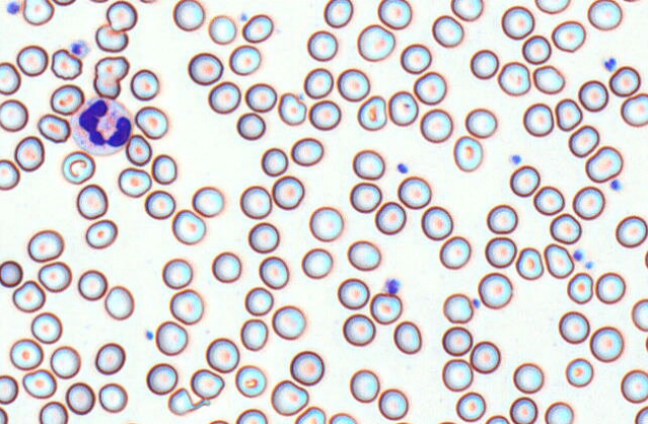GRAN: (70, 97, 135, 156)
PLT: (70, 40, 88, 59), (383, 278, 402, 296), (3, 0, 22, 16), (608, 177, 623, 192), (604, 57, 619, 72), (396, 161, 410, 174), (508, 153, 522, 165), (572, 248, 584, 261), (470, 297, 483, 308), (144, 330, 155, 342), (585, 260, 595, 269)
RBC: (585, 145, 623, 183), (357, 23, 395, 61), (270, 379, 308, 415), (589, 325, 624, 362), (477, 272, 512, 309), (289, 350, 324, 385), (205, 337, 239, 373), (169, 288, 203, 324), (27, 229, 64, 262), (271, 304, 305, 339), (171, 209, 205, 244), (309, 206, 343, 241), (187, 52, 223, 85), (134, 105, 168, 139), (207, 80, 241, 114), (61, 150, 95, 184), (397, 175, 431, 209), (155, 320, 188, 355), (497, 61, 530, 96), (420, 205, 453, 240), (76, 183, 108, 219), (271, 175, 304, 209), (501, 5, 534, 39), (239, 185, 272, 219), (572, 185, 605, 219), (336, 68, 370, 101), (49, 83, 84, 115), (420, 108, 452, 143), (12, 279, 45, 312), (342, 313, 375, 346), (413, 71, 446, 104), (9, 338, 43, 370), (558, 310, 590, 344), (439, 235, 471, 269), (522, 102, 554, 136), (551, 20, 585, 52), (117, 166, 152, 197), (37, 261, 72, 292), (543, 243, 574, 278), (14, 135, 44, 171), (453, 135, 483, 171), (388, 90, 418, 126), (441, 358, 473, 391), (369, 292, 402, 324), (615, 215, 647, 248), (374, 201, 406, 234), (431, 14, 463, 47), (608, 65, 641, 97), (190, 368, 224, 399), (258, 255, 289, 289), (104, 285, 134, 320), (357, 95, 387, 130), (587, 0, 622, 30), (50, 48, 82, 80), (30, 311, 62, 343), (16, 44, 48, 76), (337, 277, 369, 309), (192, 185, 224, 217), (549, 212, 581, 244), (484, 236, 516, 268), (235, 364, 266, 397), (469, 340, 500, 373), (509, 164, 540, 197), (228, 44, 261, 75), (347, 239, 380, 270), (568, 124, 599, 157), (308, 99, 341, 130), (22, 368, 56, 398), (65, 381, 95, 415), (349, 368, 379, 402), (377, 0, 412, 29), (146, 362, 177, 394), (105, 0, 137, 31), (172, 0, 204, 31), (161, 257, 192, 289), (94, 342, 125, 374), (248, 221, 279, 253), (349, 181, 381, 212), (301, 247, 332, 279), (85, 218, 117, 249), (465, 107, 497, 138), (37, 113, 70, 143), (50, 345, 80, 378), (532, 64, 565, 94), (244, 82, 277, 112), (290, 136, 323, 166), (595, 271, 625, 304), (578, 79, 608, 112), (512, 362, 543, 393), (441, 325, 472, 356), (442, 292, 473, 323), (400, 43, 431, 74), (486, 203, 517, 234), (306, 30, 337, 61), (378, 388, 408, 420), (352, 149, 384, 179), (241, 13, 273, 43), (0, 98, 28, 132), (515, 246, 543, 280), (393, 320, 421, 354), (620, 92, 647, 127), (144, 189, 175, 219), (211, 251, 241, 282), (77, 269, 107, 300), (469, 48, 499, 79), (533, 185, 564, 215), (303, 67, 333, 98), (130, 68, 159, 100), (95, 24, 128, 52), (554, 98, 582, 131), (620, 369, 647, 403), (455, 391, 485, 421), (521, 34, 551, 64), (98, 382, 127, 413), (240, 318, 268, 350), (125, 134, 152, 166), (566, 272, 593, 304), (244, 286, 273, 315), (565, 357, 593, 387), (208, 14, 236, 44), (260, 147, 288, 176), (236, 112, 265, 140), (323, 0, 353, 27), (151, 153, 177, 184), (22, 0, 54, 25), (509, 396, 537, 423), (0, 61, 21, 95), (450, 0, 483, 21), (38, 401, 68, 423), (0, 259, 23, 287), (0, 158, 20, 190), (544, 401, 573, 423), (0, 374, 18, 404), (631, 298, 647, 331), (294, 406, 325, 423), (534, 0, 570, 14), (235, 408, 267, 423), (328, 412, 357, 423), (634, 405, 647, 423), (485, 414, 509, 423), (52, 0, 76, 6), (0, 406, 8, 423), (437, 420, 457, 424), (644, 249, 648, 269), (208, 419, 228, 423), (392, 421, 412, 424), (88, 0, 108, 3), (645, 334, 648, 352), (138, 0, 156, 3)
Schistocyte: (278, 92, 309, 126), (93, 55, 131, 81), (166, 387, 199, 416), (94, 74, 121, 100)
